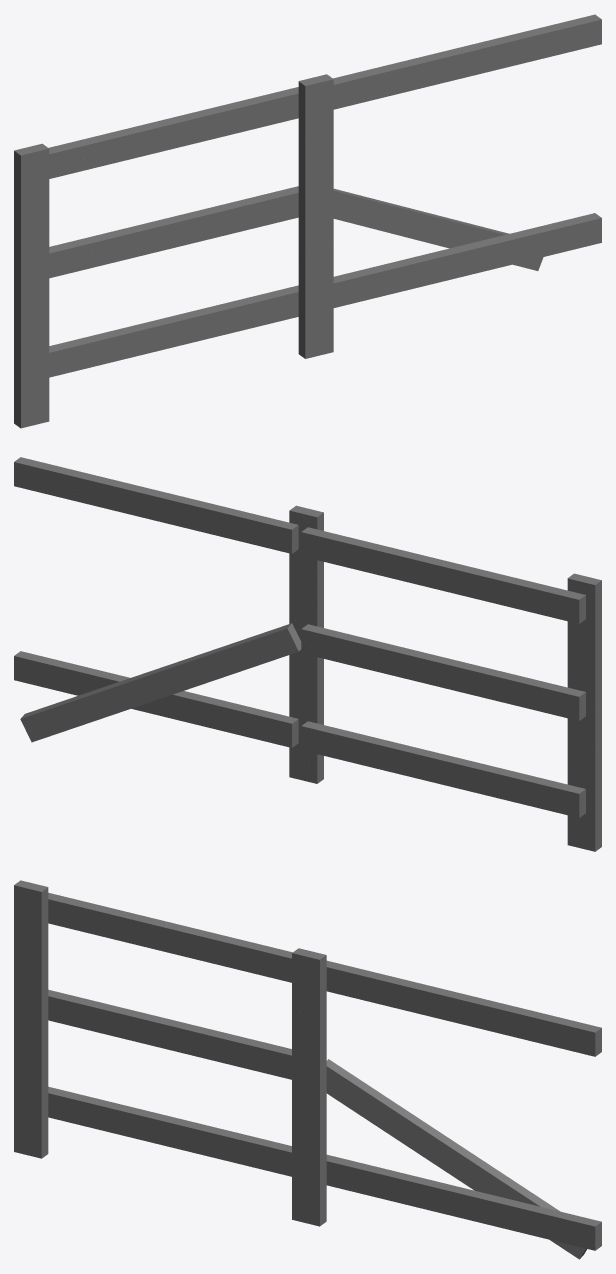
The model's file is Fence Broken.fbx.
3 renders of one model, top to bottom at view 1: azimuth 30°, elevation 25°; view 2: azimuth 150°, elevation 25°; view 3: azimuth 330°, elevation 25°, orthographic. The views are drawn at different scales.
Parts seen in each view (by area): view 1: Fence Broken; view 2: Fence Broken; view 3: Fence Broken.
Boxes of the visible parts, x1,y1,x2,y2 form: Fence Broken: [14, 14, 601, 428]; Fence Broken: [14, 457, 601, 851]; Fence Broken: [14, 880, 601, 1259].
Size of the model in its own units: 2480 by 1100 by 281.
